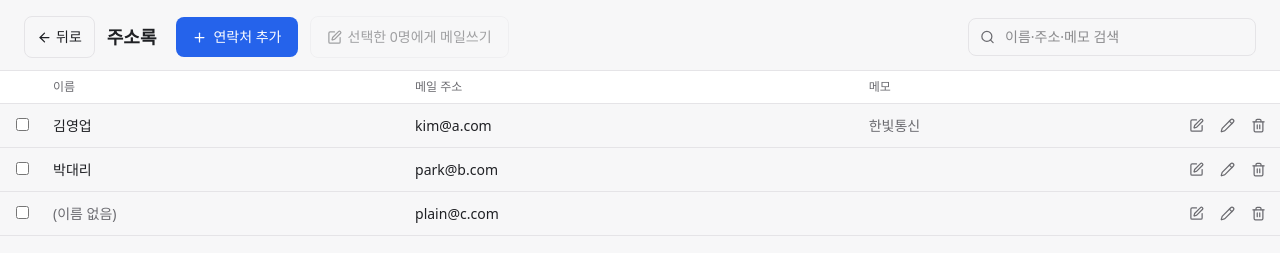
주소록 화면 › 검색하면 이름·주소·메모에 맞는 사람만 남고, 없으면 안내한다
expect the text "김영업" is shown: met, box [45,104,407,148]
Type "한빛" into the field named "주소록 검색". click: (1112, 37)
box: [968,18,1256,56]
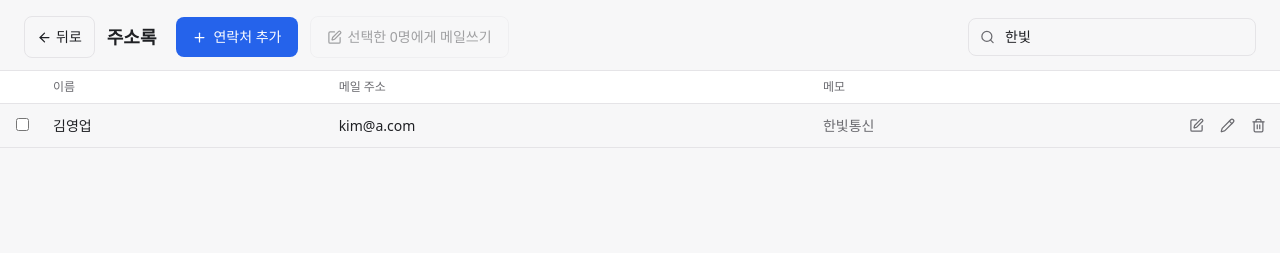
expect the text "김영업" is shown: met, box [45,104,331,148]
expect the text "박대리" is gone: met
Replace the text in the field named "주소록 검색" with "없는말". click: (1112, 37)
box: [968,18,1256,56]
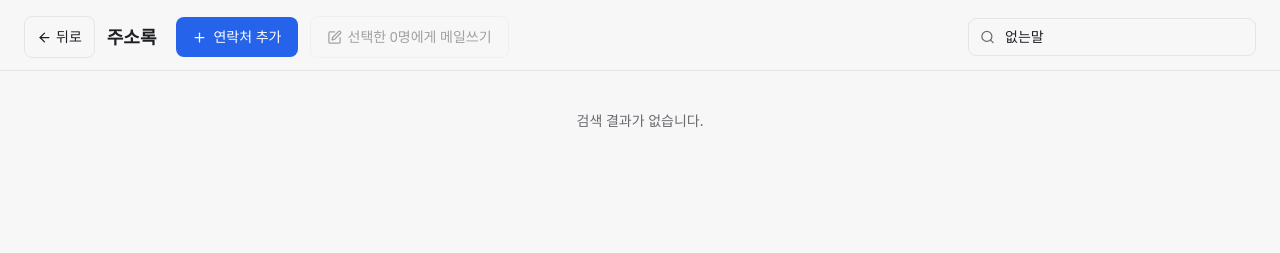
expect the text "검색 결과가 없습니다." is shown: met, box [576,111,704,130]
